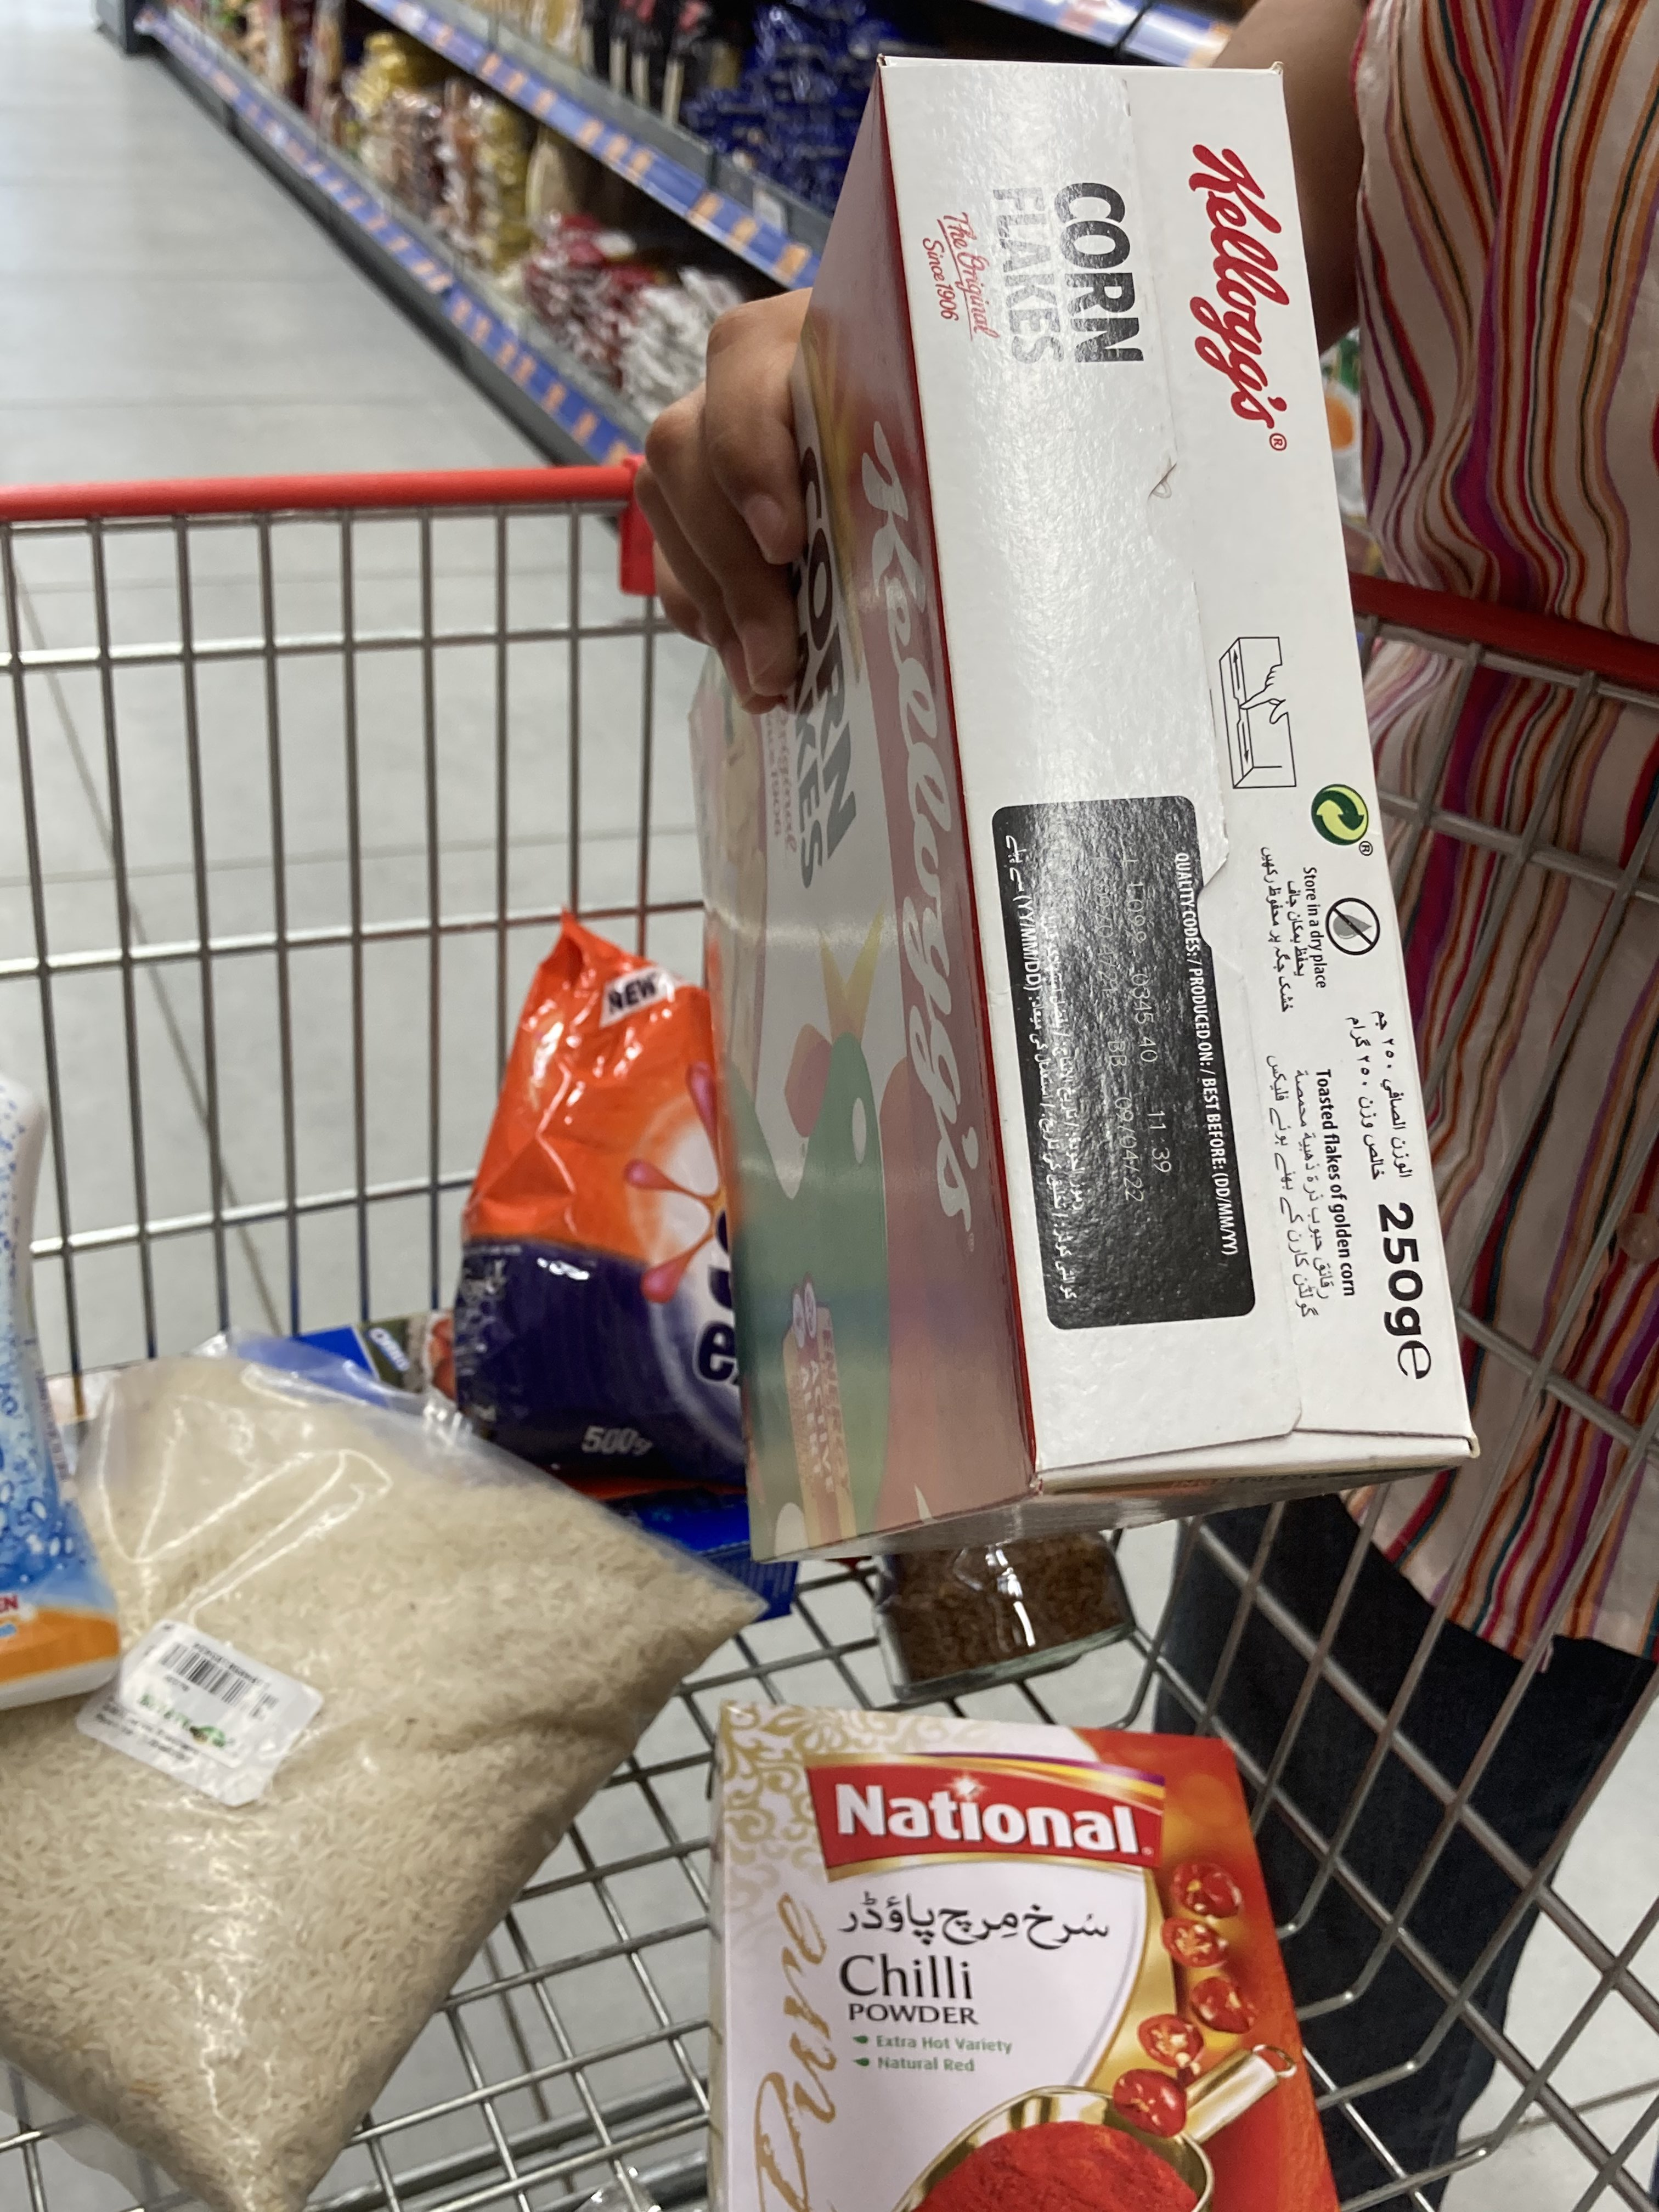Kellogg's Corn Flakes: (673, 54, 1476, 1580)
